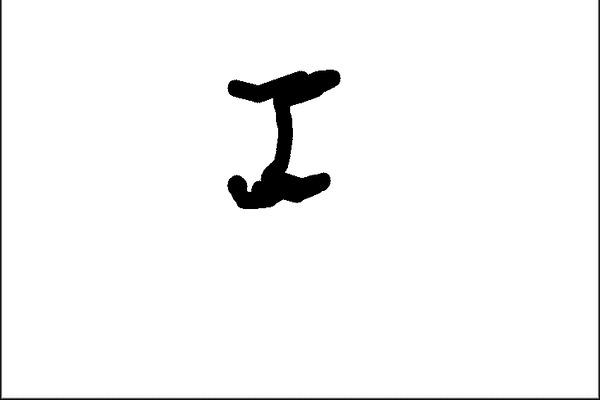i: (213, 60, 355, 215)
